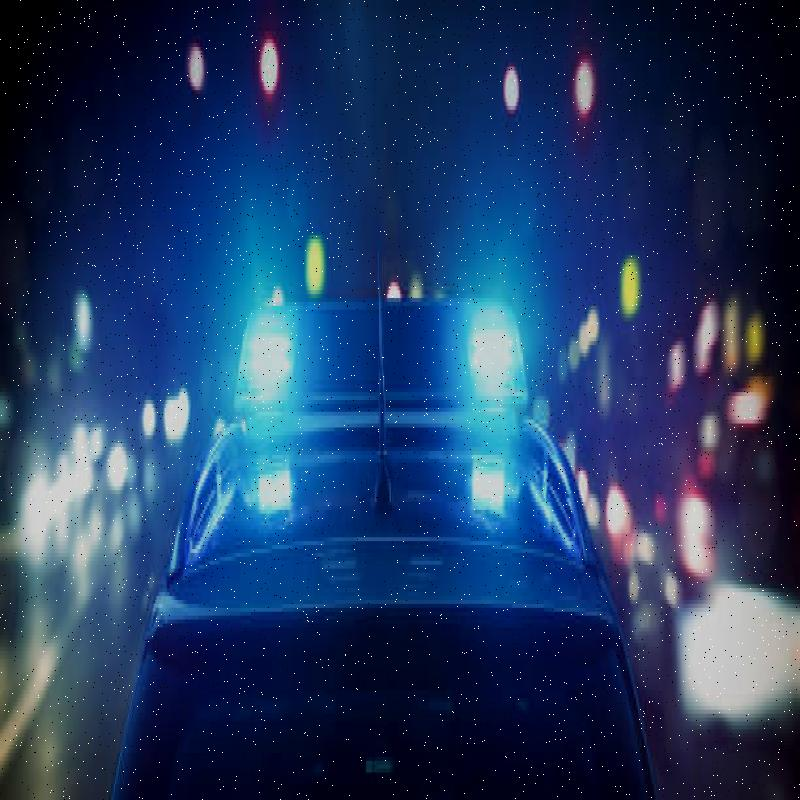AmbulanceSiren: (233, 272, 533, 446)
